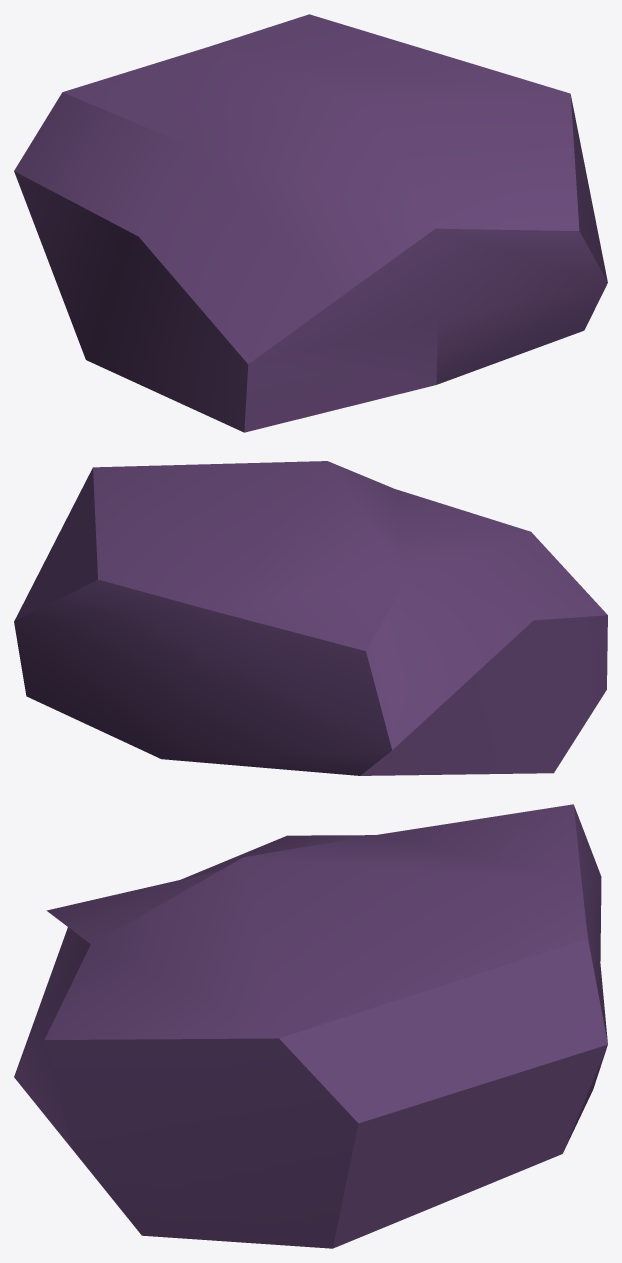
The model's file is Rock_005.fbx.
3 views of the same model, one above another, from view 1: azimuth 30°, elevation 25°; view 2: azimuth 150°, elevation 25°; view 3: azimuth 270°, elevation 25° (orthographic). The views are drawn at different scales.
Parts seen in each view (by area): view 1: Rock_005; view 2: Rock_005; view 3: Rock_005.
Part boxes in pixels (<box>): Rock_005: <box>14,14,607,432</box>; Rock_005: <box>14,461,607,775</box>; Rock_005: <box>14,804,607,1248</box>.
Bounding box in the file's own units: 3.59 × 1.7 × 3.27.
